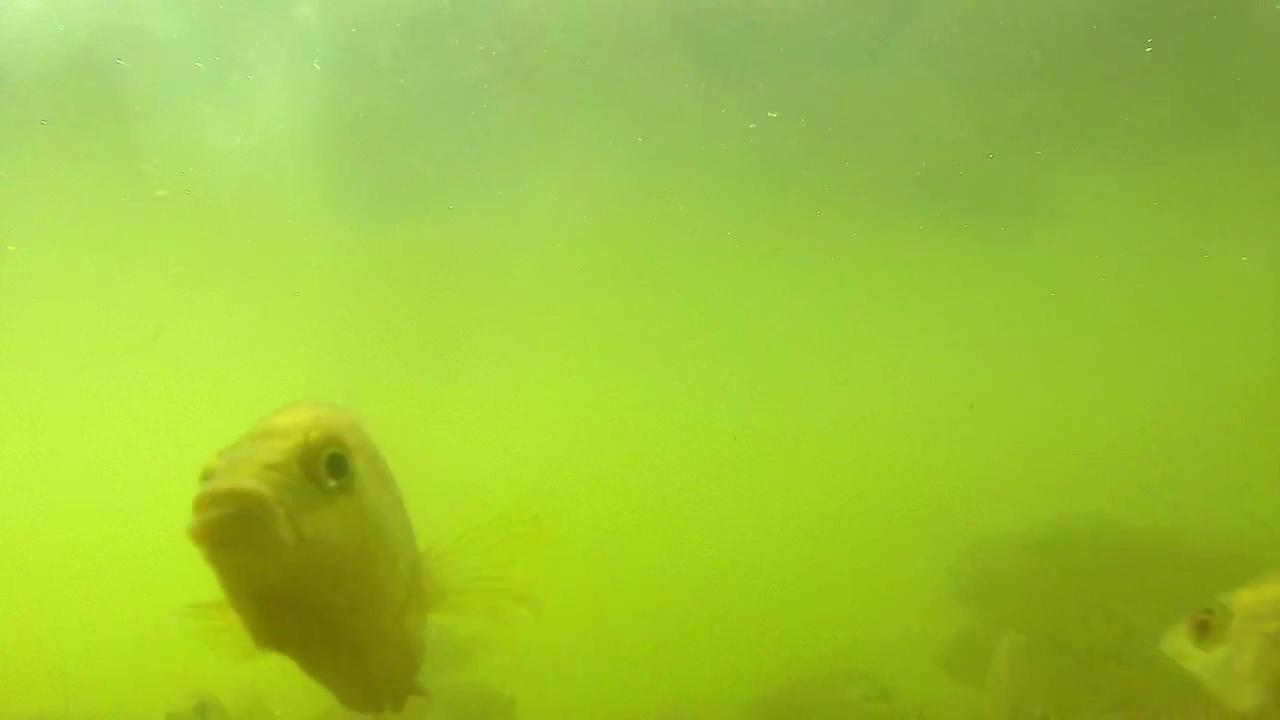Tilapia: (171, 398, 542, 720), (1171, 574, 1280, 704)
